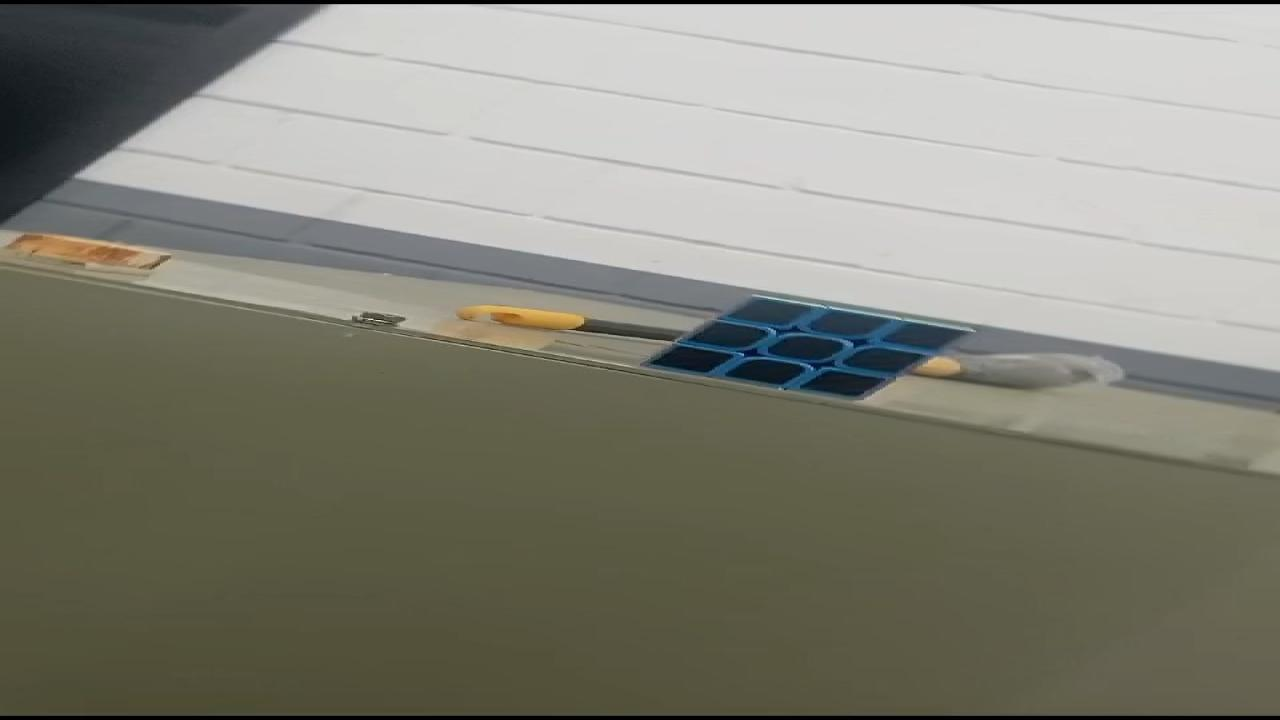Cube: (634, 292, 976, 400)
